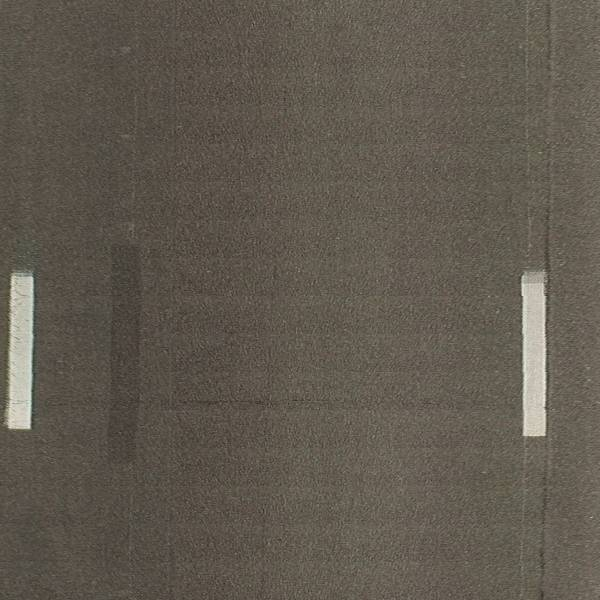road_damage: (170, 394, 391, 411)
